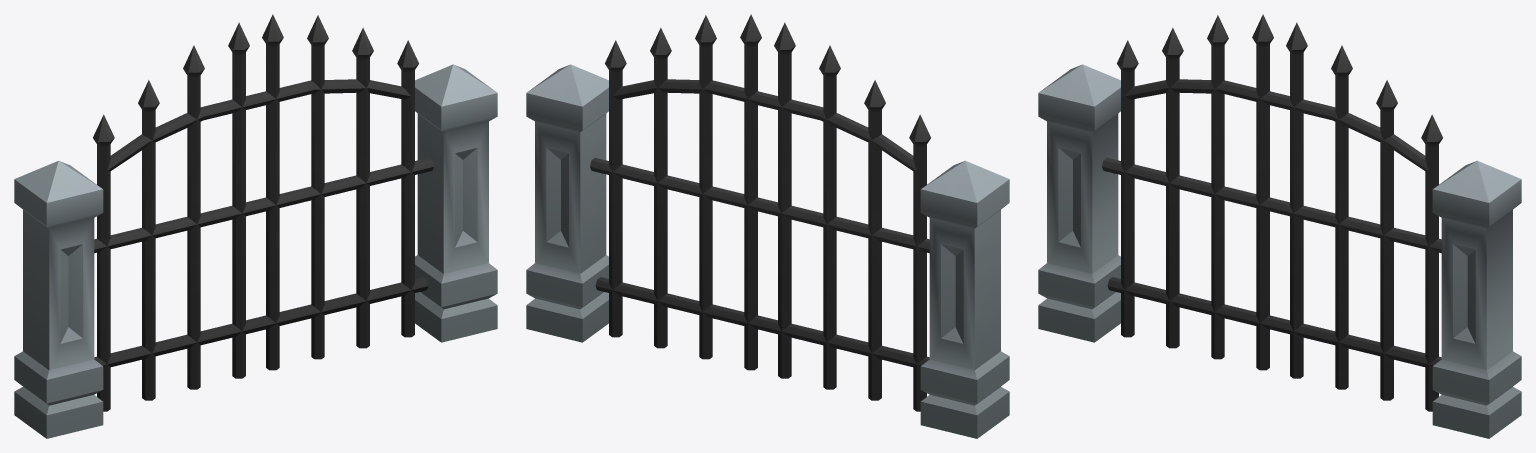
Rendered from kay-portao-ferro.gltf.
3 views of the same model, side by side, from view 1: azimuth 30°, elevation 25°; view 2: azimuth 150°, elevation 25°; view 3: azimuth 330°, elevation 25° (orthographic).
Visible parts, largest first — view 1: fence_gate; view 2: fence_gate; view 3: fence_gate.
Boxes of the visible parts, x1,y1,x2,y2 form: fence_gate: (14, 14, 497, 438); fence_gate: (526, 14, 1009, 438); fence_gate: (1038, 14, 1521, 438).
Size of the model in its own units: 2 by 1.5 by 0.25.
1 material, 1 textured.
